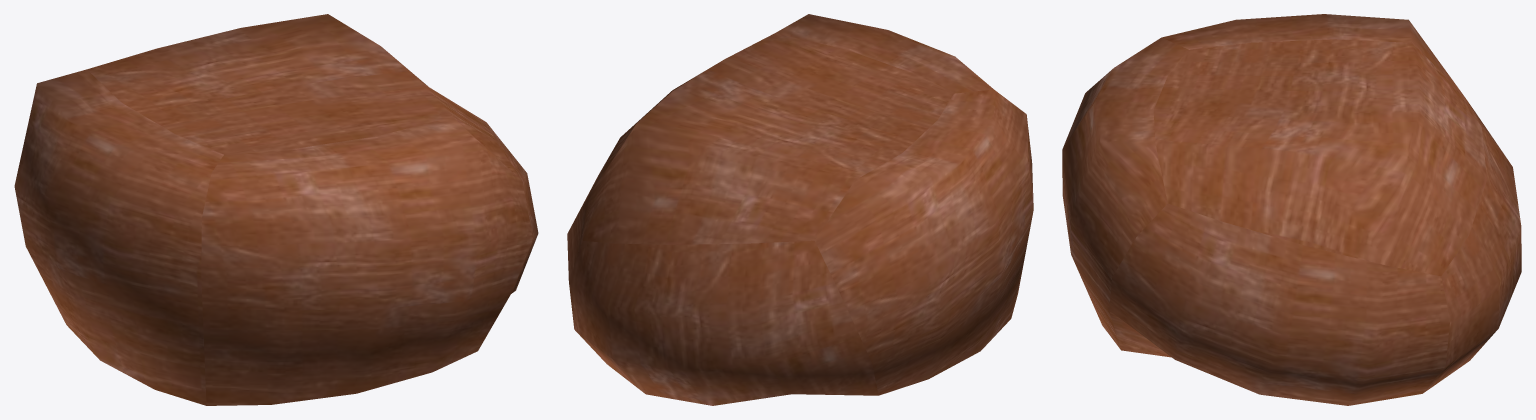
File: Canyon_Rock_Formations_2.glb
3 views of the same model, side by side, from view 1: azimuth 30°, elevation 25°; view 2: azimuth 150°, elevation 25°; view 3: azimuth 270°, elevation 25° (orthographic). The views are drawn at different scales.
Visible parts, largest first — view 1: Canyon_Rock_Formations_2_0; view 2: Canyon_Rock_Formations_2_0; view 3: Canyon_Rock_Formations_2_0.
Part boxes in pixels (x1,y1,x2,y2): Canyon_Rock_Formations_2_0: [14, 14, 538, 405]; Canyon_Rock_Formations_2_0: [567, 14, 1033, 405]; Canyon_Rock_Formations_2_0: [1062, 14, 1521, 405].
Bounding box in the file's own units: 4.79 × 2.69 × 4.77.
1 material, 1 textured.
